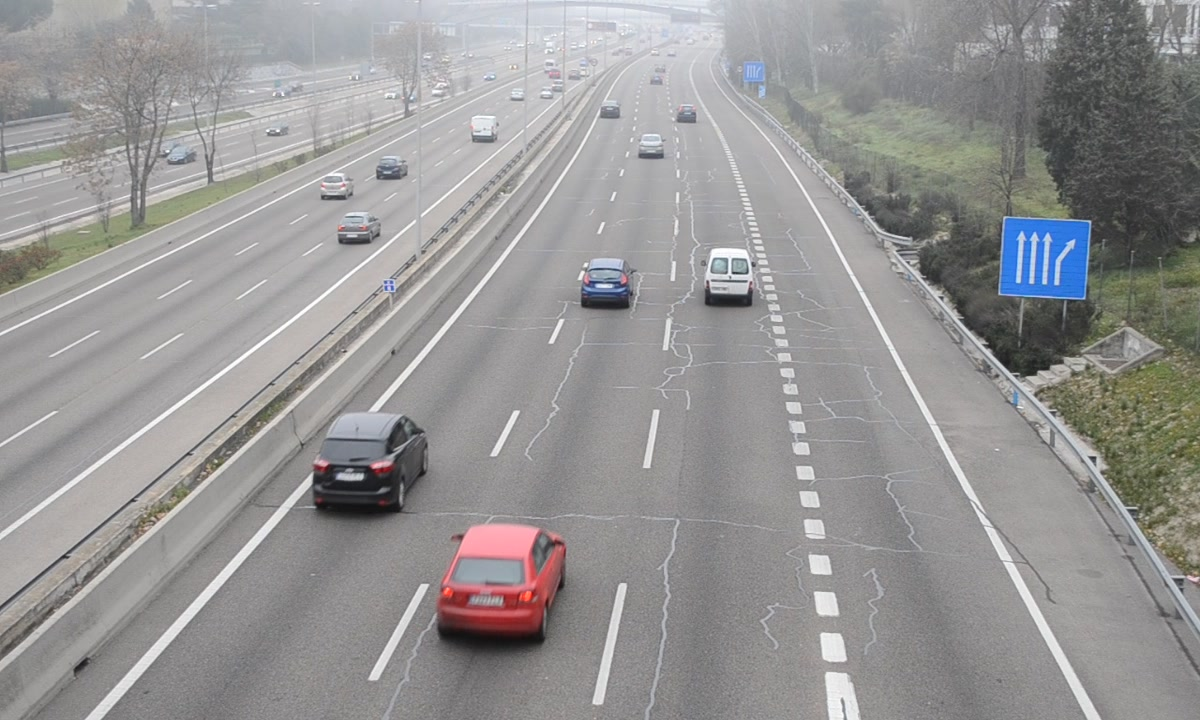car: (440, 526, 564, 637), (313, 414, 428, 509), (581, 257, 633, 308), (638, 132, 666, 159), (674, 103, 697, 125)
van: (703, 248, 754, 306)
